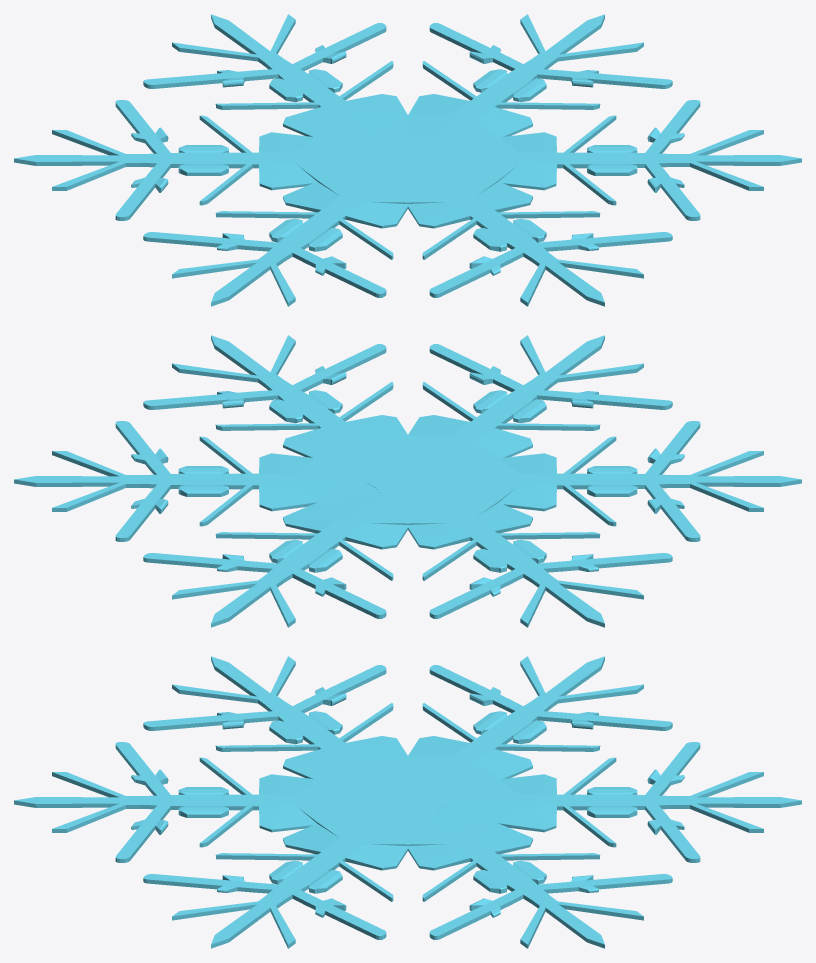
Rendered from Fulg2.obj.
3 views of the same model, one above another, from view 1: azimuth 30°, elevation 25°; view 2: azimuth 150°, elevation 25°; view 3: azimuth 270°, elevation 25° (orthographic).
Parts seen in each view (by area): view 1: Plane; view 2: Plane; view 3: Plane.
Part boxes in pixels (<box>): Plane: <box>14,14,801,306</box>; Plane: <box>14,335,801,627</box>; Plane: <box>14,656,801,948</box>.
Size of the model in its own units: 1.29 by 0.0122 by 1.49.
